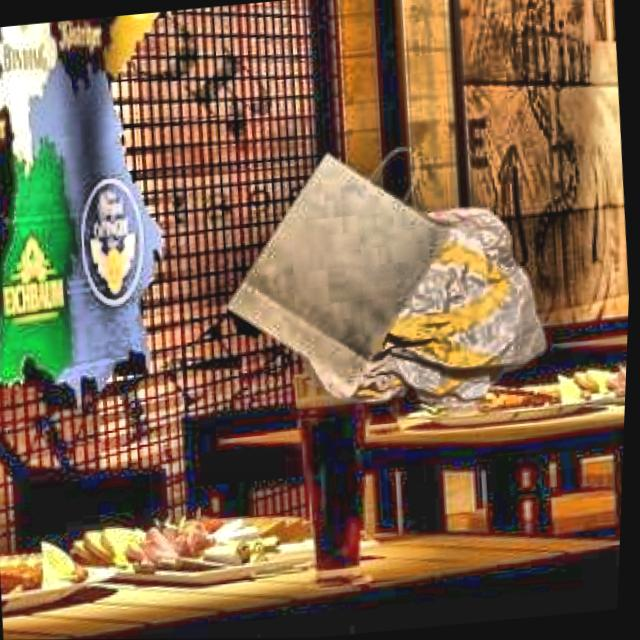Paper-bag: (214, 135, 442, 403), (329, 179, 567, 429)
